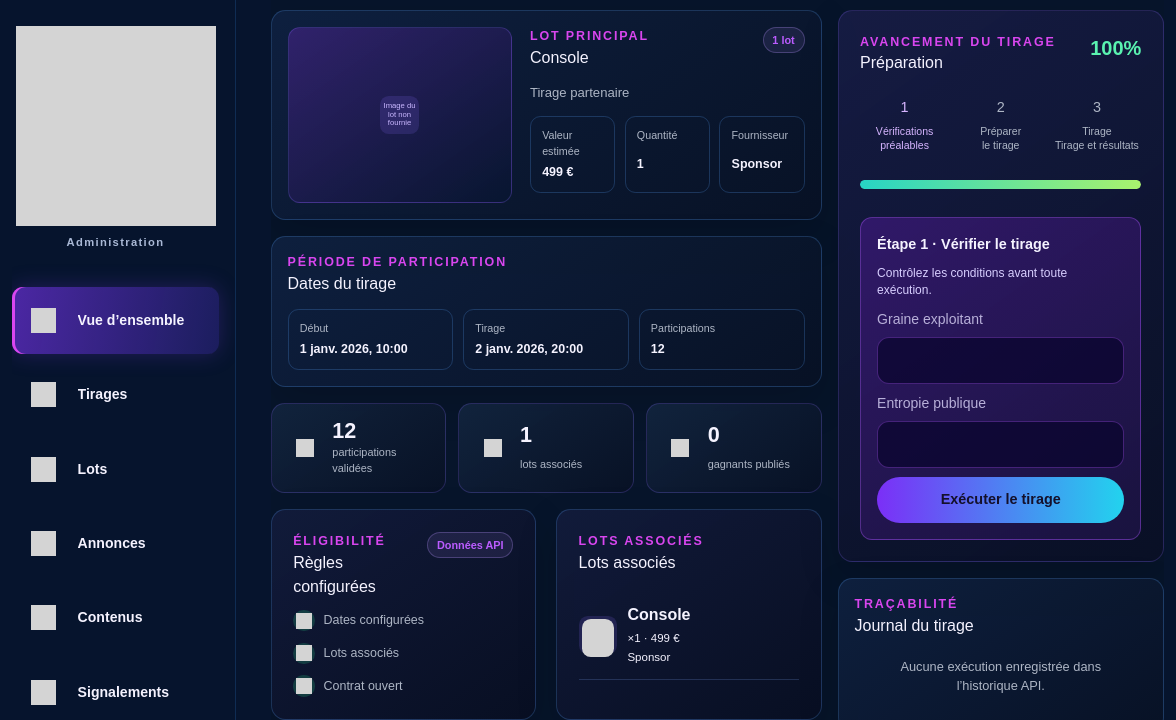
compose le détail réel et permet l’exécution d’un tirage ouvert
(page scrolled)
Expected: the number of headings "Console" is 2, [530,49,589,66]; [627,606,690,623]
Type "seed" into the field labelled "Graine exploitant".
click(1001, 360); type("seed")  # box [877,337,1124,384]
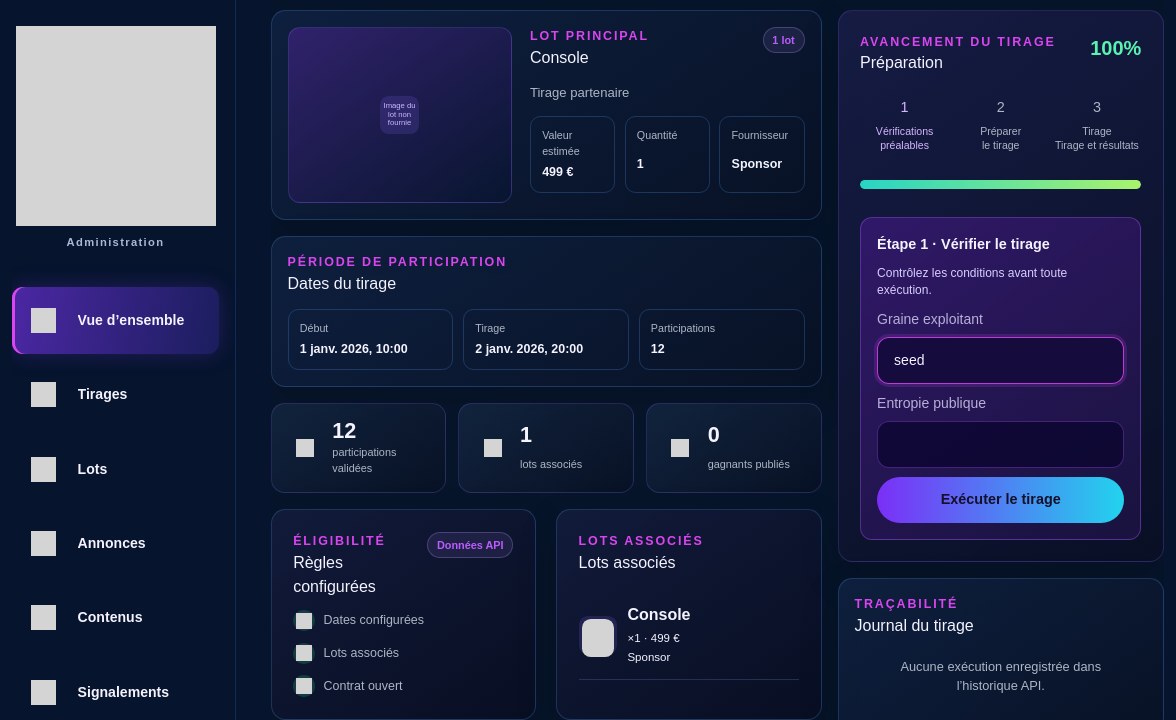
Type "entropy" into the field labelled "Entropie publique".
click(1001, 444); type("entropy")  # box [877,421,1124,468]
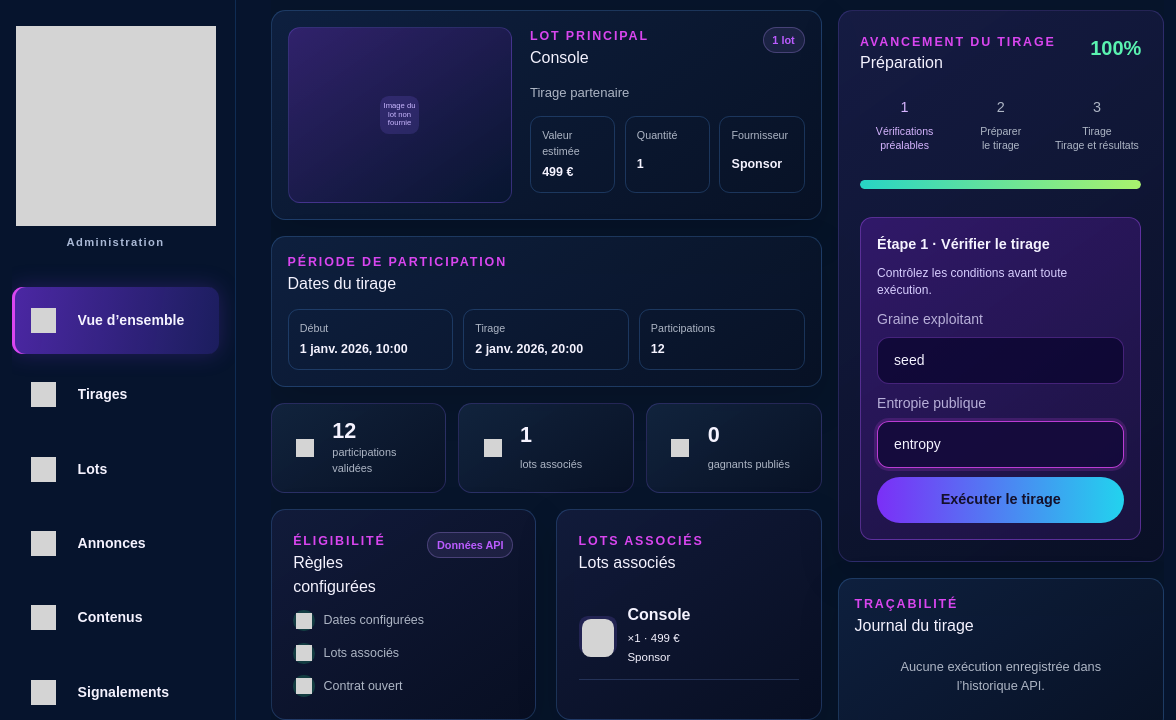
Click the button "Exécuter le tirage".
click(1001, 500)  # box [877,477,1124,523]
(page scrolled)
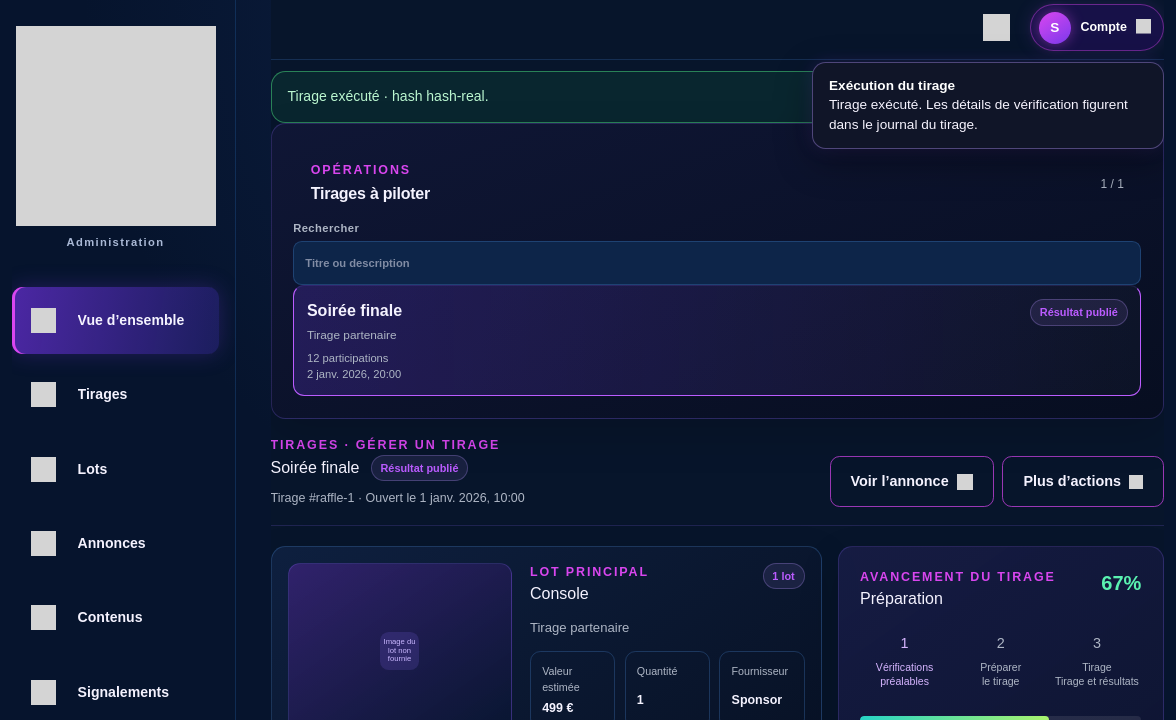
Expected: the text "Tirage exécuté · hash hash-real." is shown, [270,71,1164,123]
